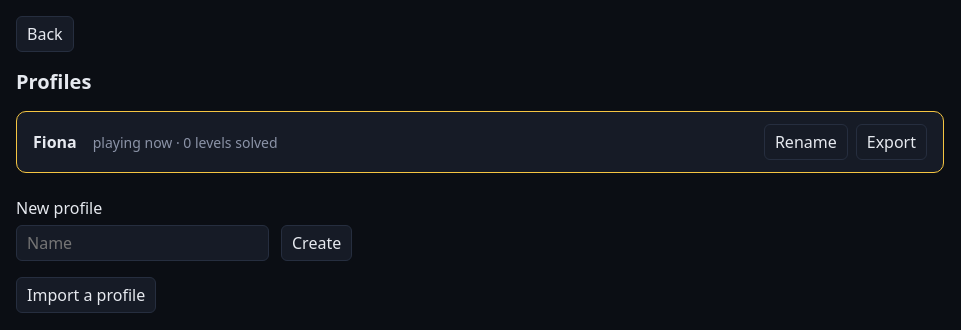
Test: ProfilesScreen › renames a profile, starting from its name each time
Click the button "Rename" at {"x": 806, "y": 142}, box x1=764 y1=124 x2=848 y2=160
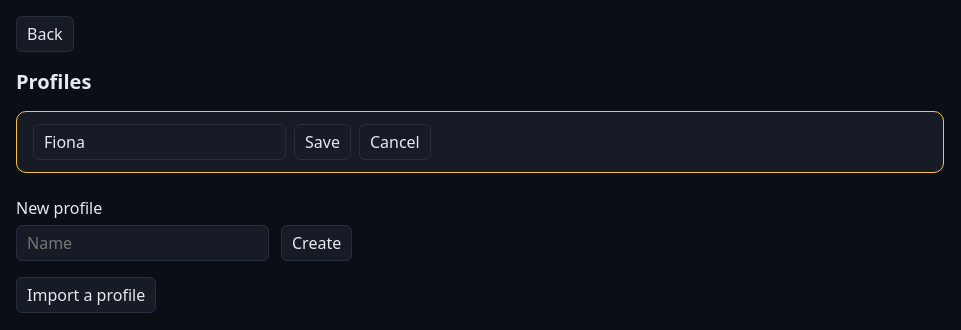
expect the field named "Name" holds "Fiona": met
Replace the text in the field named "Name" with "Fi" at {"x": 160, "y": 142}, box x1=33 y1=124 x2=286 y2=160
Click the button "Save" at {"x": 322, "y": 142}, box x1=294 y1=124 x2=351 y2=160
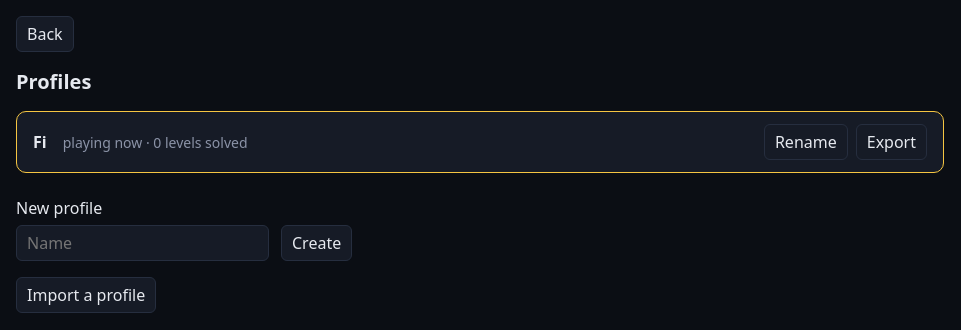
Click the button "Rename" at {"x": 806, "y": 142}, box x1=764 y1=124 x2=848 y2=160
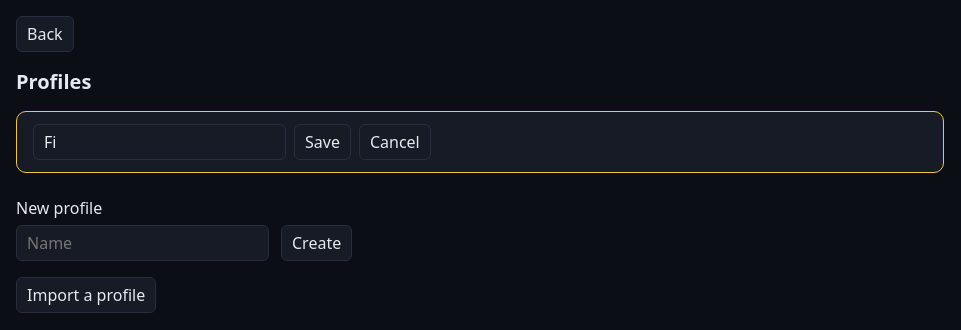
Replace the text in the field named "Name" with "Nobody" at {"x": 160, "y": 142}, box x1=33 y1=124 x2=286 y2=160
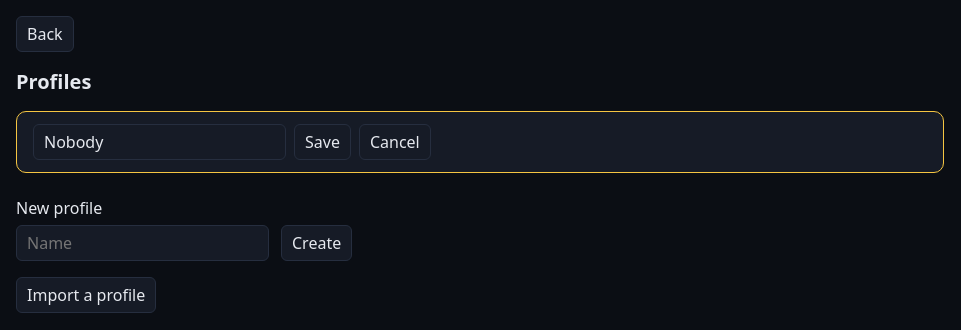
Click the button "Cancel" at {"x": 395, "y": 142}, box x1=359 y1=124 x2=431 y2=160
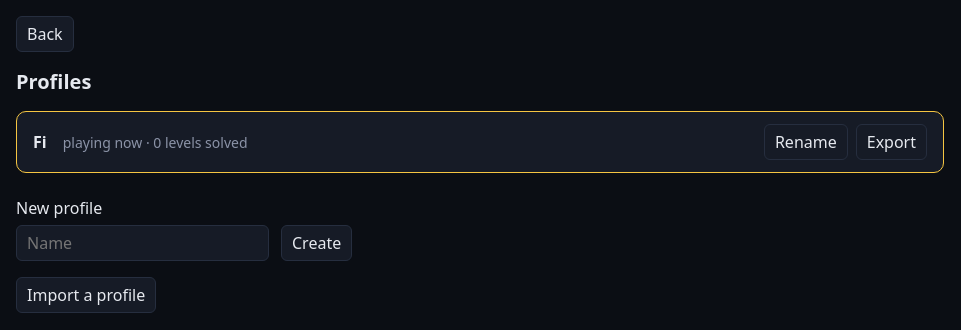
Click the button "Rename" at {"x": 806, "y": 142}, box x1=764 y1=124 x2=848 y2=160
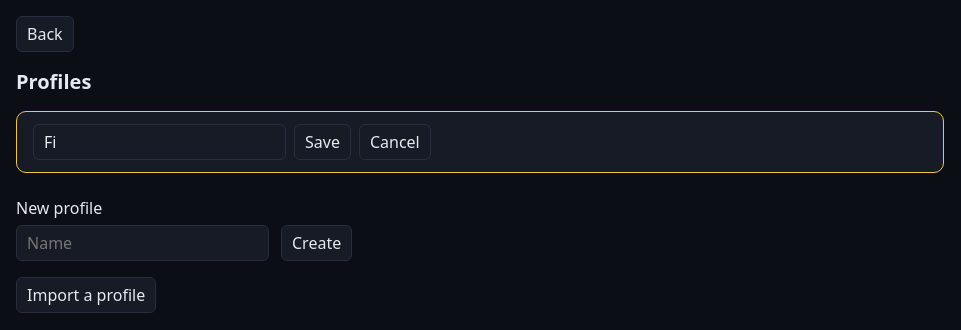
expect the field named "Name" holds "Fi": met, box x1=33 y1=124 x2=286 y2=160
